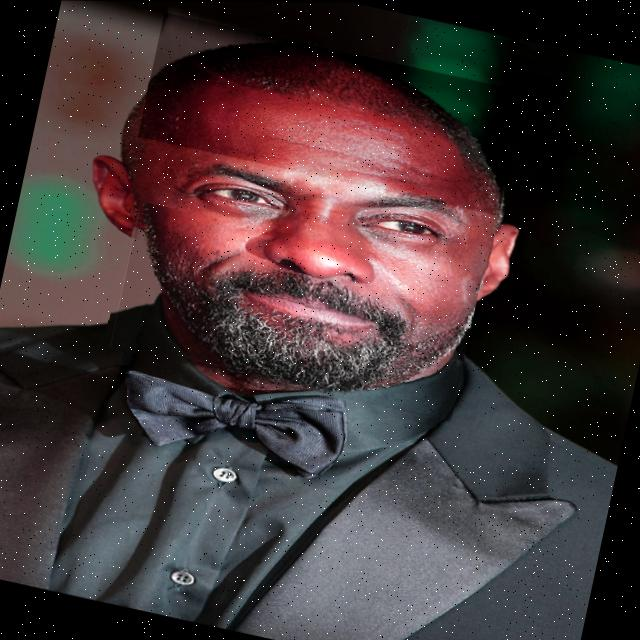beard: (140, 202, 474, 392)
hair: (149, 44, 499, 214)
